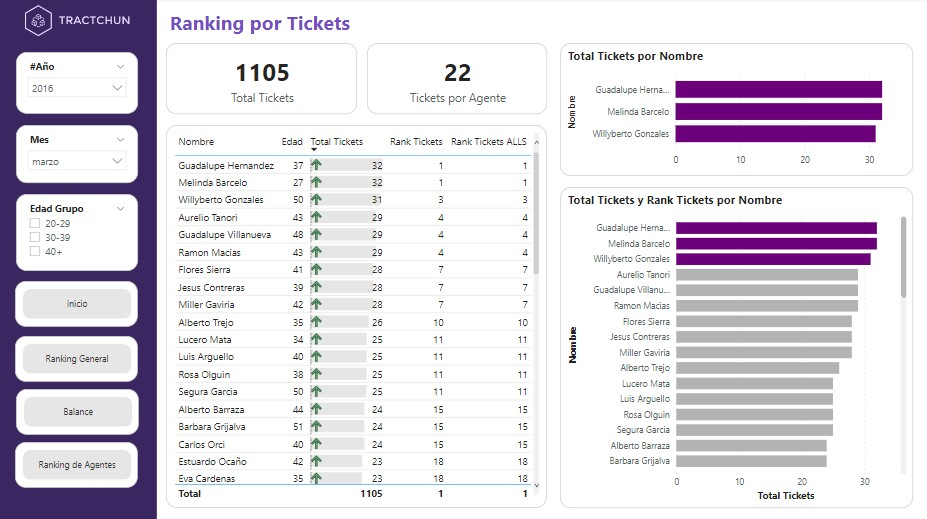

The page's visual inventory and layout, read from the dashboard file:
{"tool":"powerbi","page":{"name":"Ranking por Tickets","canvas":[1280,720],"ordinal":2},"visuals":[{"type":"basicShape","title":"Panel Izquierda","box":[0,0,220.2,719.8],"z":0},{"type":"slicer","fields":{"Values":["d_Calendario.#Año"]},"box":[26.2,74.3,167.9,85.3],"z":1000},{"type":"slicer","fields":{"Values":["d_Calendario.Mes"]},"box":[26.2,174.8,167.9,79.8],"z":2000},{"type":"tableEx","fields":{"Values":["d_Agentes.Nombre","d_Agentes.Edad","DAX Medidas.Total Tickets","DAX Medidas.Rank Tickets","DAX Medidas.Rank Tickets ALLS"]},"box":[232.6,174.8,524.4,527.1],"z":3000},{"type":"barChart","fields":{"Category":["d_Agentes.Nombre"],"Y":["DAX Medidas.Total Tickets"]},"box":[774.9,61.9,485.8,183.1],"z":4000},{"type":"barChart","fields":{"Category":["d_Agentes.Nombre"],"Y":["DAX Medidas.Total Tickets"]},"box":[774.9,260.1,485.8,441.8],"z":5000},{"type":"slicer","fields":{"Values":["d_Agentes.Edad Grupo"]},"box":[26.2,269.8,167.9,106],"z":6000},{"type":"card","fields":{"Values":["DAX Medidas.Total Tickets"]},"box":[232.6,61.9,262.9,97.7],"z":7000},{"type":"card","fields":{"Values":["DAX Medidas.Tickets por Agente"]},"box":[509.2,61.9,247.7,97.7],"z":8000},{"type":"image","box":[0,0,220.2,61.9],"z":9000},{"type":"textbox","box":[232.6,9.6,542.3,52.3],"z":10000},{"type":"group","id":"g1","title":"Grupo 1","box":[24.8,465.2,169.3,61.9],"z":11000},{"type":"group","id":"g2","title":"Grupo 1","box":[26.2,538.2,169.3,61.9],"z":12000},{"type":"group","id":"g3","title":"Grupo 1","box":[24.8,611.1,169.3,61.9],"z":13000},{"type":"group","id":"g4","title":"Grupo 1","box":[24.8,389.5,169.3,61.9],"z":14000},{"type":"textbox","box":[24.8,389.5,168.7,62.8],"z":14000,"group":"g4"},{"type":"textbox","box":[24.8,465.2,168.7,62.8],"z":14000,"group":"g1"},{"type":"textbox","box":[26.2,538.2,168.7,62.8],"z":14000,"group":"g2"},{"type":"textbox","box":[24.8,611.1,168.7,62.8],"z":14000,"group":"g3"},{"type":"actionButton","box":[35.3,401.1,148.9,40.7],"z":15000,"group":"g4"},{"type":"actionButton","box":[35.3,476.8,148.9,40.7],"z":15000,"group":"g1"},{"type":"actionButton","box":[36.7,549.8,148.9,40.7],"z":15000,"group":"g2"},{"type":"actionButton","box":[35.3,622.7,148.9,40.7],"z":15000,"group":"g3"}]}

Visuals, with their boxes in screenshot pixels (x1, y1, x2, y2), scaled from the page's 1280x720 canvas onto the 927x519 screenshot:
"Panel Izquierda" basicShape: (0,0,159,518)
slicer - d_Calendario.#Año: (19,54,141,115)
slicer - d_Calendario.Mes: (19,126,141,184)
tableEx - d_Agentes.Nombre x d_Agentes.Edad: (168,126,548,506)
barChart - d_Agentes.Nombre x DAX Medidas.Total Tickets: (561,45,913,177)
barChart - d_Agentes.Nombre x DAX Medidas.Total Tickets: (561,187,913,506)
slicer - d_Agentes.Edad Grupo: (19,194,141,271)
card - DAX Medidas.Total Tickets: (168,45,359,115)
card - DAX Medidas.Tickets por Agente: (369,45,548,115)
image: (0,0,159,45)
textbox: (168,7,561,45)
"Grupo 1" group: (18,335,141,380)
"Grupo 1" group: (19,388,142,433)
"Grupo 1" group: (18,441,141,485)
"Grupo 1" group: (18,281,141,325)
textbox: (18,281,140,326)
textbox: (18,335,140,381)
textbox: (19,388,141,433)
textbox: (18,441,140,486)
actionButton: (26,289,133,318)
actionButton: (26,344,133,373)
actionButton: (27,396,134,426)
actionButton: (26,449,133,478)
